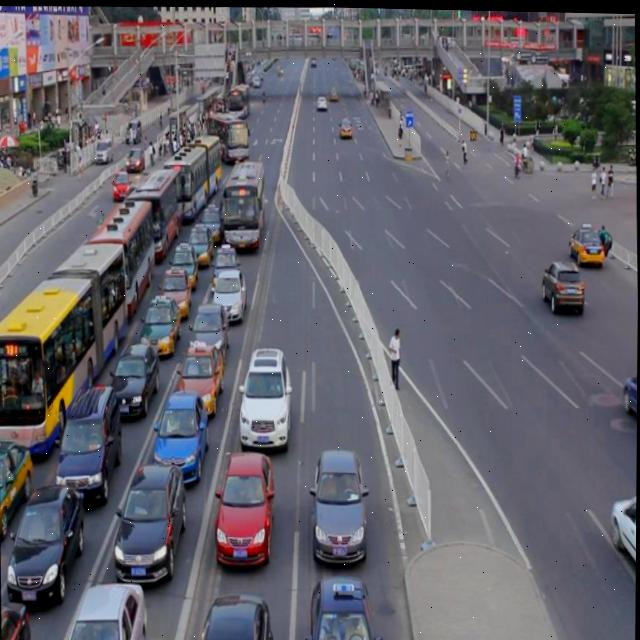car: (5, 483, 87, 597), (114, 457, 188, 577), (55, 380, 123, 495), (214, 450, 276, 556), (310, 445, 369, 556), (55, 576, 146, 640), (237, 344, 292, 444), (305, 574, 381, 640), (154, 387, 209, 474), (188, 591, 273, 640), (111, 335, 160, 412), (176, 339, 224, 410), (0, 438, 32, 540), (189, 300, 230, 361), (141, 293, 182, 352), (540, 256, 583, 310), (610, 487, 637, 572), (567, 218, 606, 263), (159, 262, 192, 313), (214, 265, 246, 316), (0, 596, 30, 640), (212, 238, 239, 286), (169, 240, 198, 284), (620, 362, 638, 423), (197, 198, 224, 238), (187, 219, 213, 260), (338, 114, 352, 138)
van: (0, 239, 130, 452), (84, 193, 156, 314), (164, 126, 221, 213), (133, 163, 179, 255), (220, 157, 266, 247), (204, 110, 249, 160)
